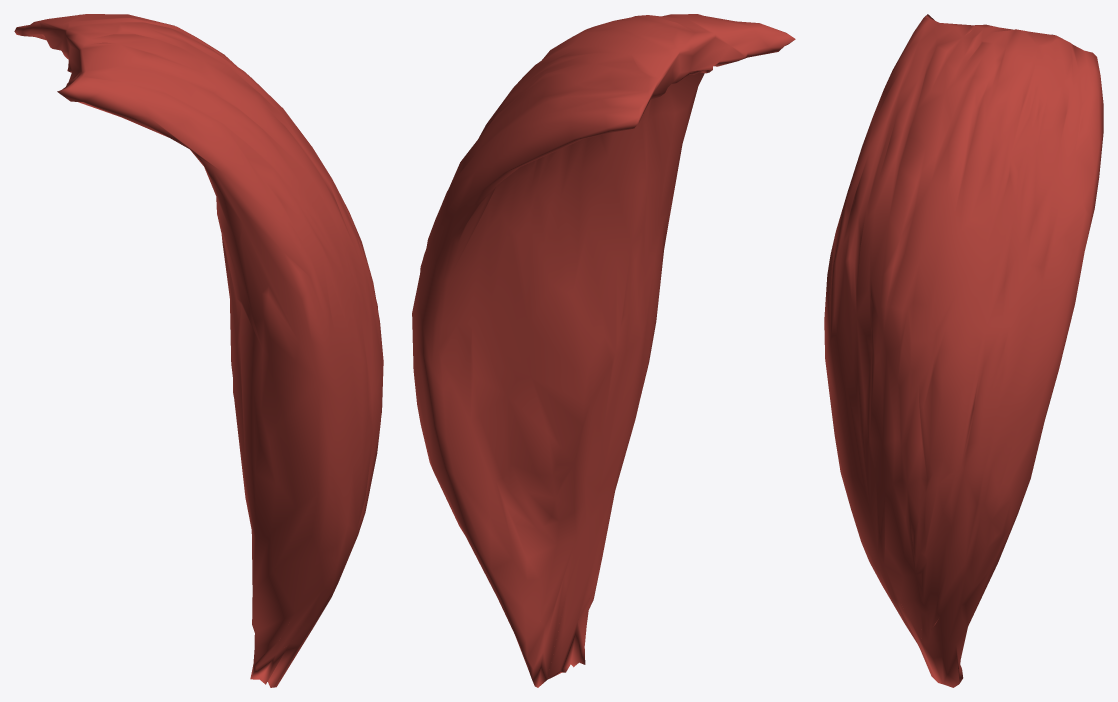
File: musculos-acromial-part-of-deltoid-muscle-l.glb
The picture shows the model from 3 angles, left to right: view 1: azimuth 30°, elevation 25°; view 2: azimuth 150°, elevation 25°; view 3: azimuth 270°, elevation 25°; orthographic projection. The views are drawn at different scales.
Parts seen in each view (by area): view 1: Acromial part of deltoid muscle.l; view 2: Acromial part of deltoid muscle.l; view 3: Acromial part of deltoid muscle.l.
Part boxes in pixels (left/top/right/bottom): Acromial part of deltoid muscle.l: left=14, top=14, right=383, bottom=687; Acromial part of deltoid muscle.l: left=412, top=14, right=795, bottom=687; Acromial part of deltoid muscle.l: left=824, top=14, right=1103, bottom=687.
Size of the model in its own units: 0.0755 by 0.1476 by 0.0633.
